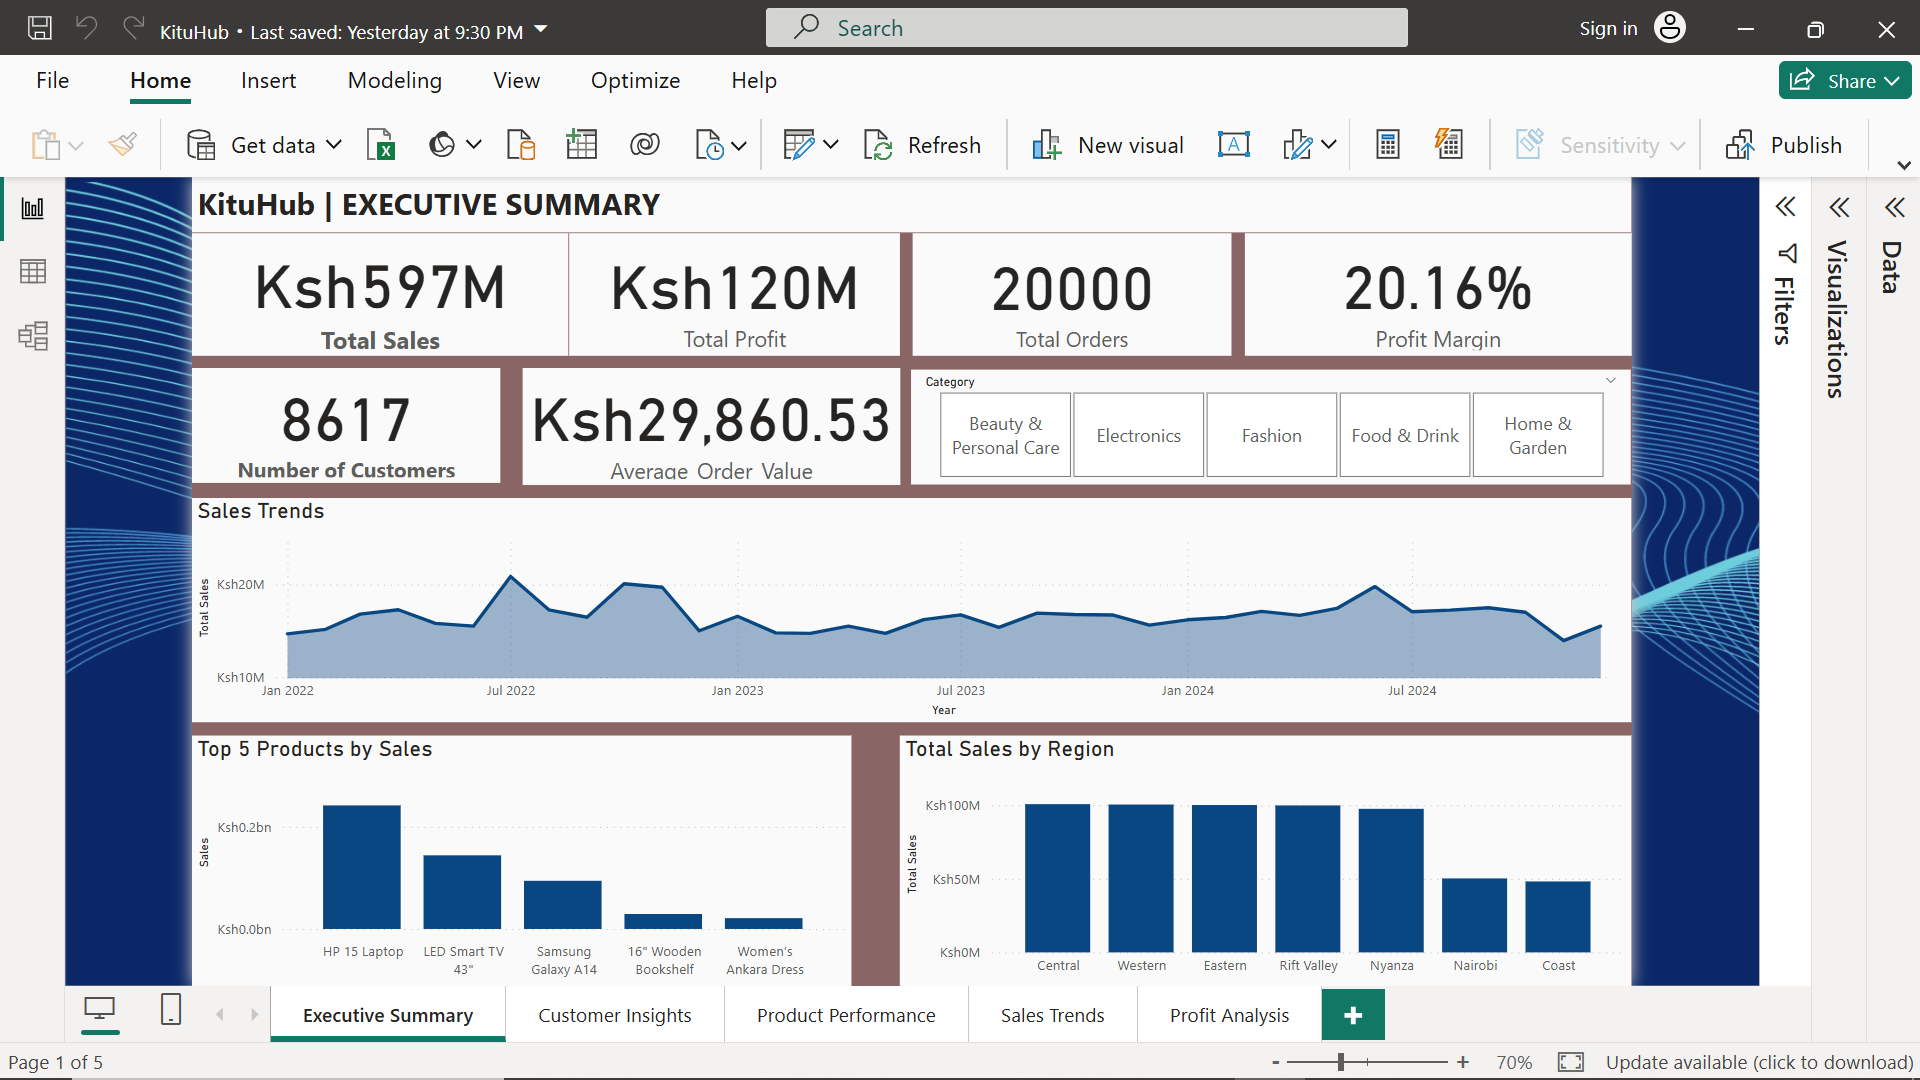

Layout of this report page (visuals, bound fields, positions):
{"tool":"powerbi","page":{"name":"Executive Summary","canvas":[1280,720],"ordinal":0},"visuals":[{"type":"card","fields":{"Values":["_Measures.Total Sales"]},"box":[0,49.3,334.8,109.3],"z":0},{"type":"card","fields":{"Values":["Count(sales.CustomerID)"]},"box":[0,170,274,102],"z":1000},{"type":"textbox","box":[0,0,1279.5,49.3],"z":2000},{"type":"card","fields":{"Values":["CountNonNull(sales.OrderID)"]},"box":[640.3,49.3,283.7,109.3],"z":3000},{"type":"card","fields":{"Values":["_Measures.Average_Order_Value"]},"box":[294,170,336,104],"z":4000},{"type":"card","fields":{"Values":["_Measures.Total Profit"]},"box":[334.8,49.3,294.3,109.3],"z":5000},{"type":"card","fields":{"Values":["_Measures.Profit Margin"]},"box":[935.8,49.3,343.7,109.3],"z":6000},{"type":"areaChart","title":"Sales Trends","fields":{"Category":["Date - Sheet1.Date.Variation.Date Hierarchy.Year","Date - Sheet1.Date.Variation.Date Hierarchy.Quarter","Date - Sheet1.Date.Variation.Date Hierarchy.Month"],"Y":["Sum(sales.OrderTotal (KES))"]},"box":[0,285.5,1279.5,199.1],"z":7000},{"type":"clusteredColumnChart","fields":{"Category":["delivery.Region"],"Y":["Sum(sales.OrderTotal (KES))"]},"box":[629.2,497,650.3,223.8],"z":8000},{"type":"clusteredColumnChart","title":"Top 5 Products by Sales","fields":{"Category":["Products.ProductName"],"Y":["Sum(sales.OrderTotal (KES))"]},"box":[0,496,586,224],"z":9000},{"type":"slicer","fields":{"Values":["Products.Category"]},"box":[639.7,170.9,639.7,102.2],"z":10000}]}

Visuals, with their boxes on the page's 1280x720 design canvas (x1, y1, x2, y2). These are canvas units, not pixel positions in the 1920x1080 screenshot, which may show the page scaled, cropped or inside an application window:
card - _Measures.Total Sales: select_region(0, 49, 335, 159)
card - Count(sales.CustomerID): select_region(0, 170, 274, 272)
textbox: select_region(0, 0, 1280, 49)
card - CountNonNull(sales.OrderID): select_region(640, 49, 924, 159)
card - _Measures.Average_Order_Value: select_region(294, 170, 630, 274)
card - _Measures.Total Profit: select_region(335, 49, 629, 159)
card - _Measures.Profit Margin: select_region(936, 49, 1280, 159)
"Sales Trends" areaChart: select_region(0, 286, 1280, 485)
clusteredColumnChart - delivery.Region x Sum(sales.OrderTotal (KES)): select_region(629, 497, 1280, 721)
"Top 5 Products by Sales" clusteredColumnChart: select_region(0, 496, 586, 720)
slicer - Products.Category: select_region(640, 171, 1279, 273)
